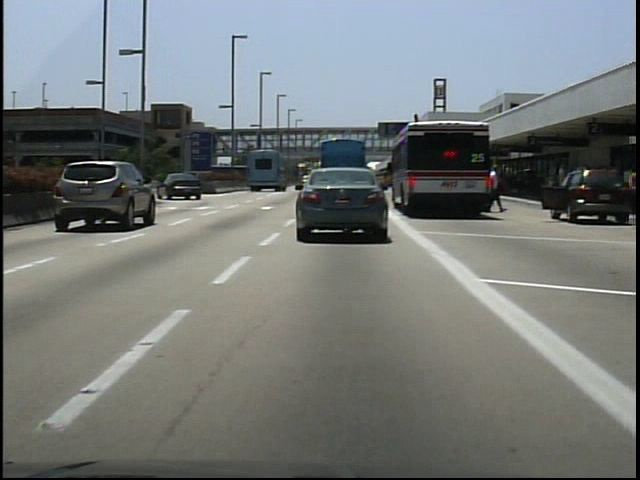person: (485, 158, 507, 220)
